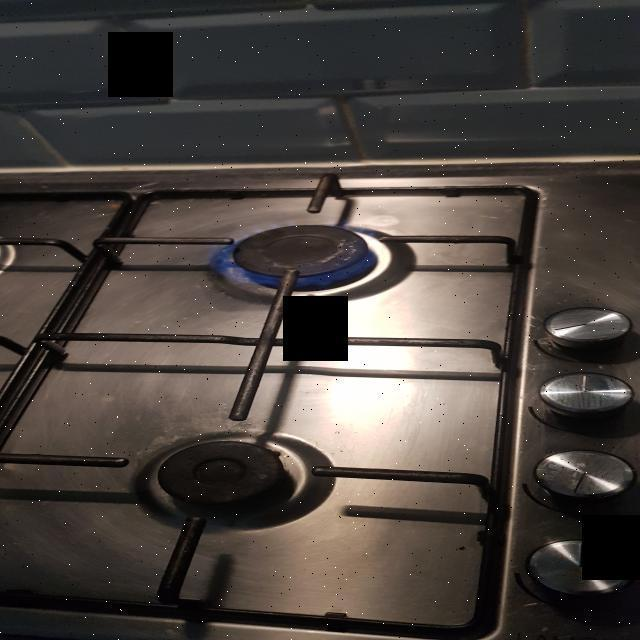Flame: (214, 224, 396, 300)
